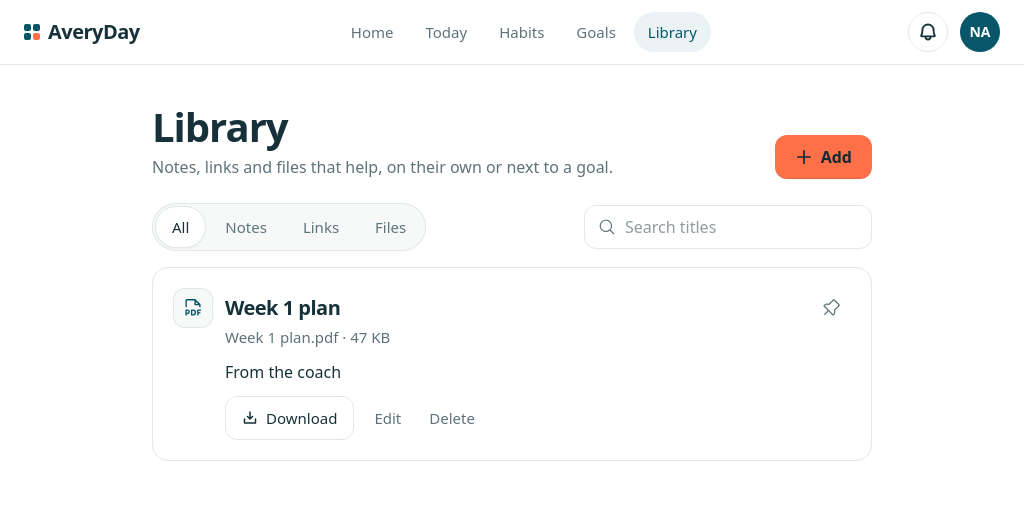
Test: files in the library › says so when a file has gone missing
Click the button with aria-label "Download Week 1 plan.pdf". click: (290,418)
box: top-left (225, 396), bottom-right (354, 440)
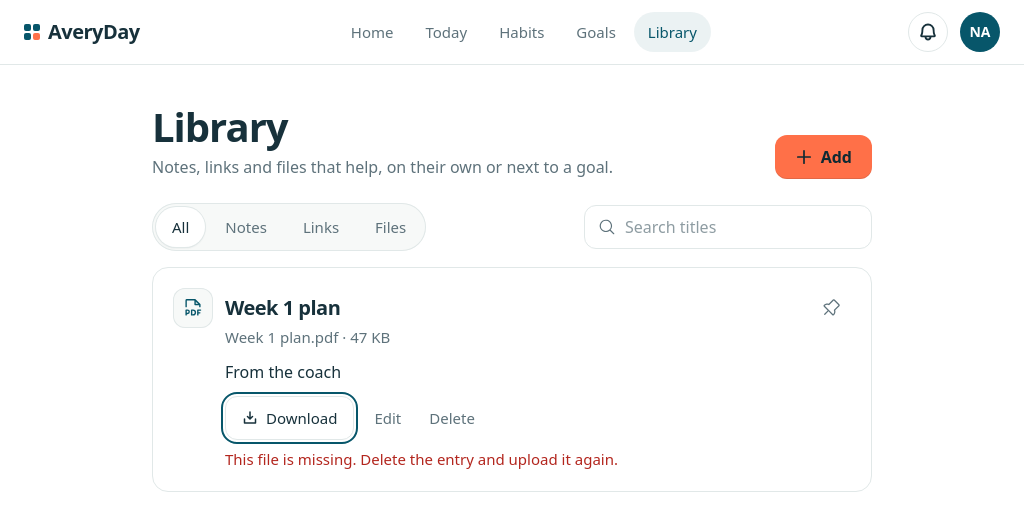
Check: the message shows "This file is missing", box top-left (225, 449), bottom-right (618, 469)
